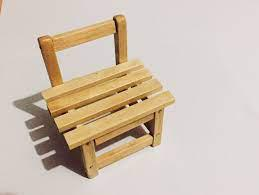chair: (28, 12, 182, 180)
